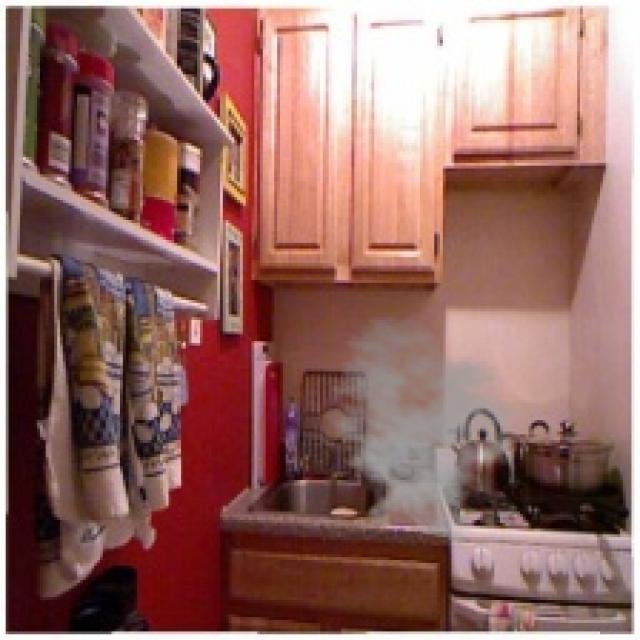smoke: (311, 314, 523, 543)
